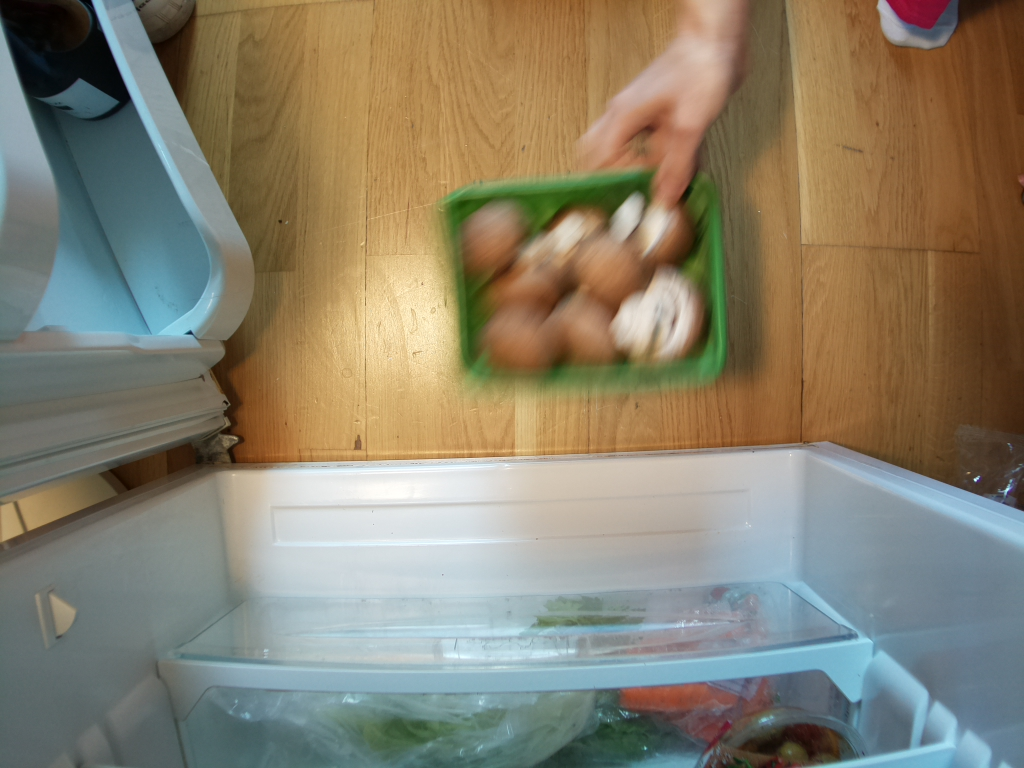mushrooms: (436, 153, 745, 407)
